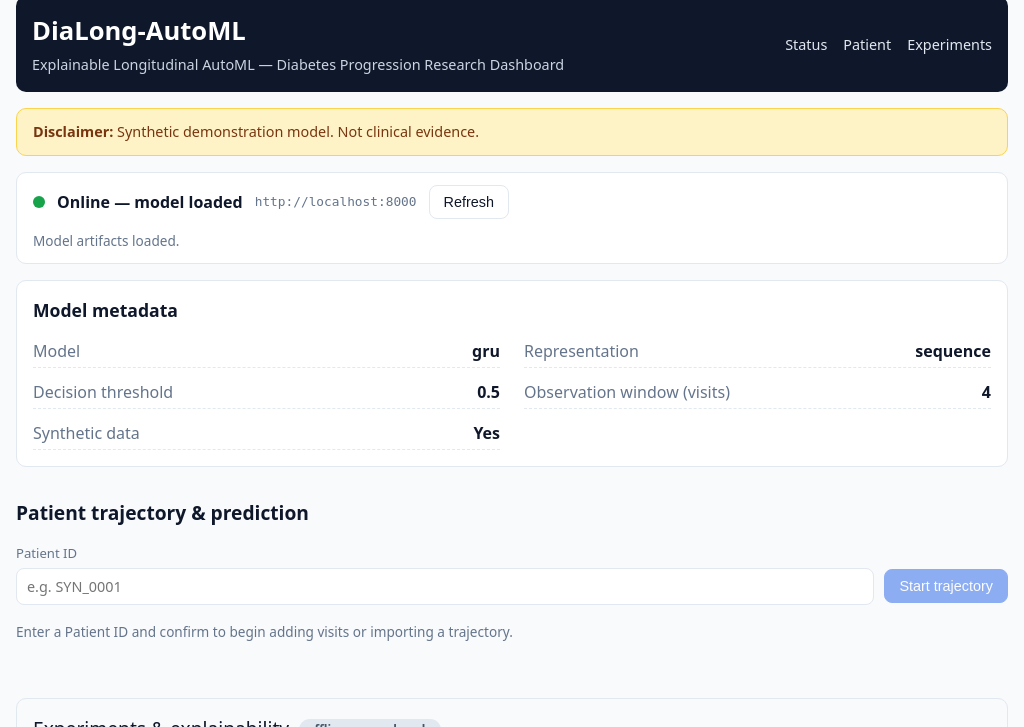
Test: App — visit persistence › saves drafts to the backend and shows them as saved visits
In the field with test id "patient-id-input": (445, 586) [16,568,874,605], type "SYN_0001"
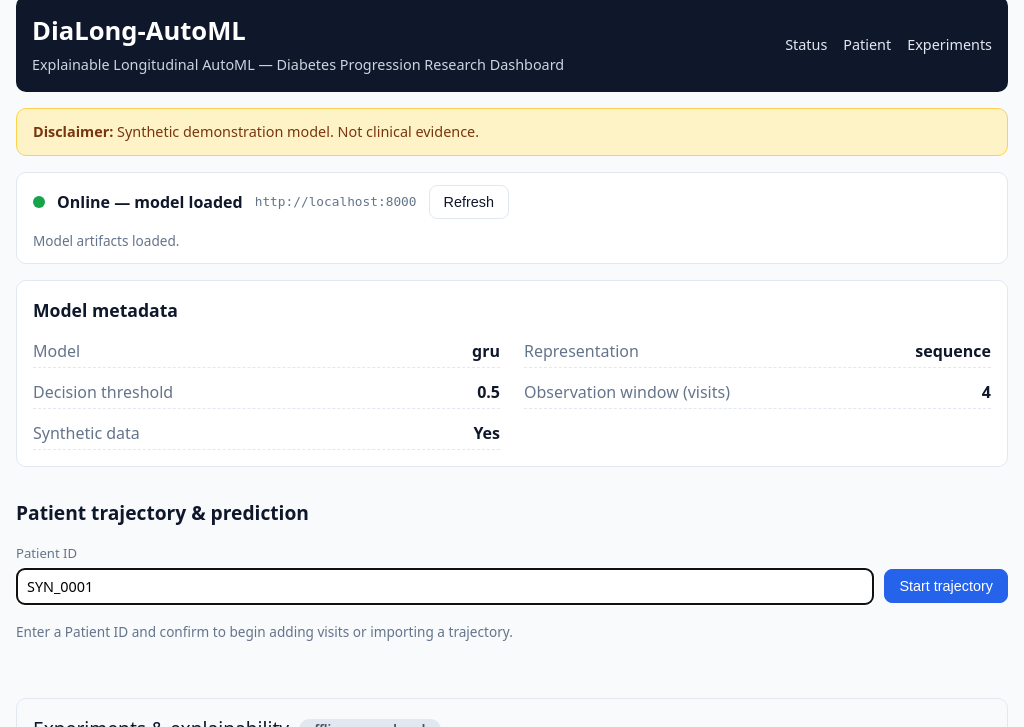
Click the button with test id "patient-id-confirm": click(946, 586) [884,569,1008,603]
(page scrolled)
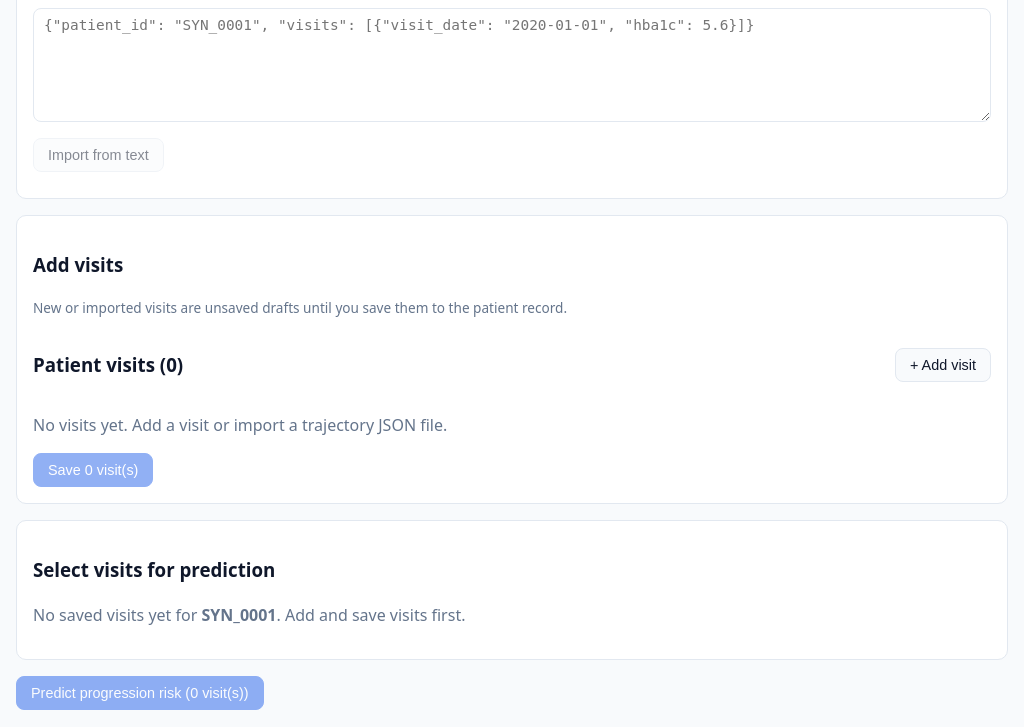
Click the button with test id "add-visit": click(943, 365) [895,348,991,382]
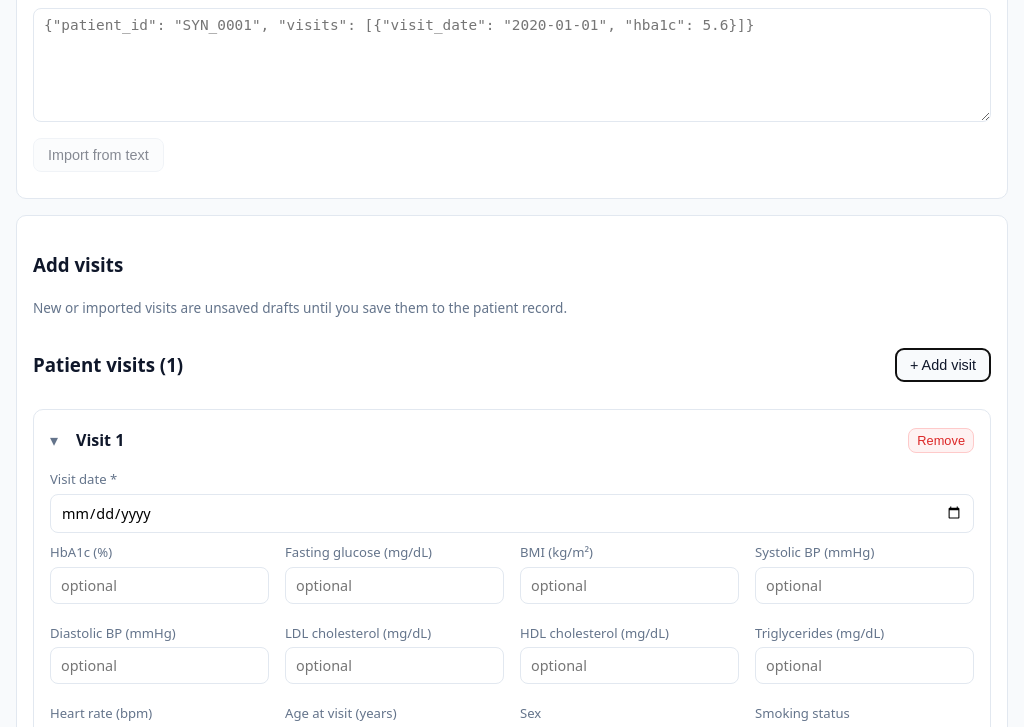
In the date field labelled "Visit date *": (512, 514) [50,494,974,533], type "2020-01-01"
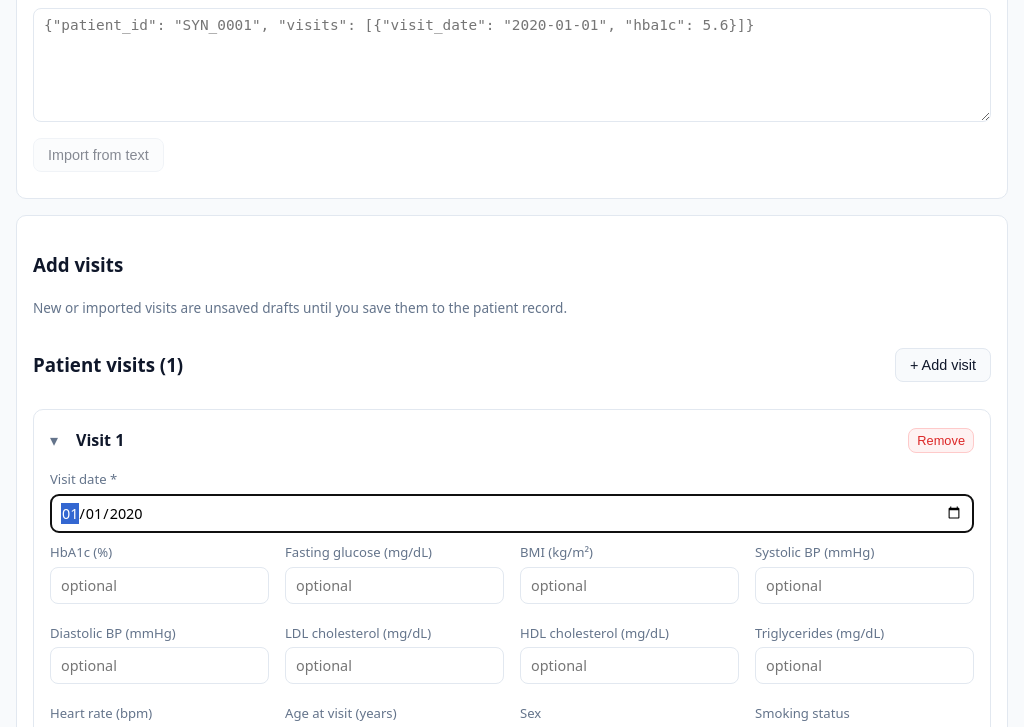
In the number field labelled "HbA1c (%)": (160, 585) [50,567,269,604], type "5.6"
(page scrolled)
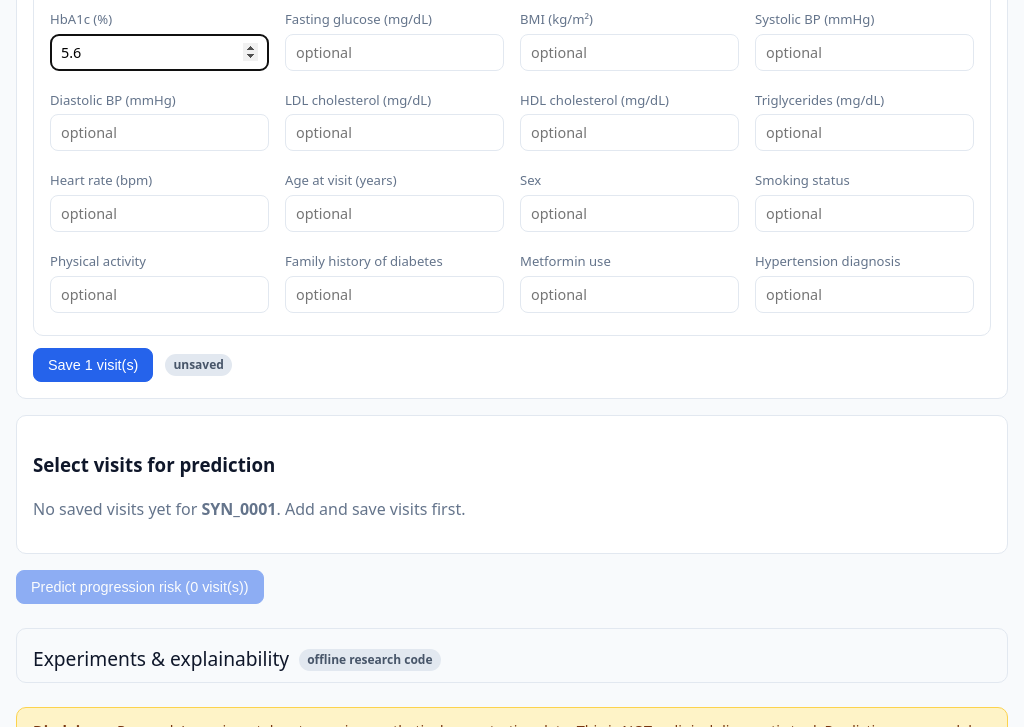
Now the text "unsaved" is shown, box [165,354,232,376]
Click the button with test id "save-visits": click(93, 365) [33,348,153,382]
(page scrolled)
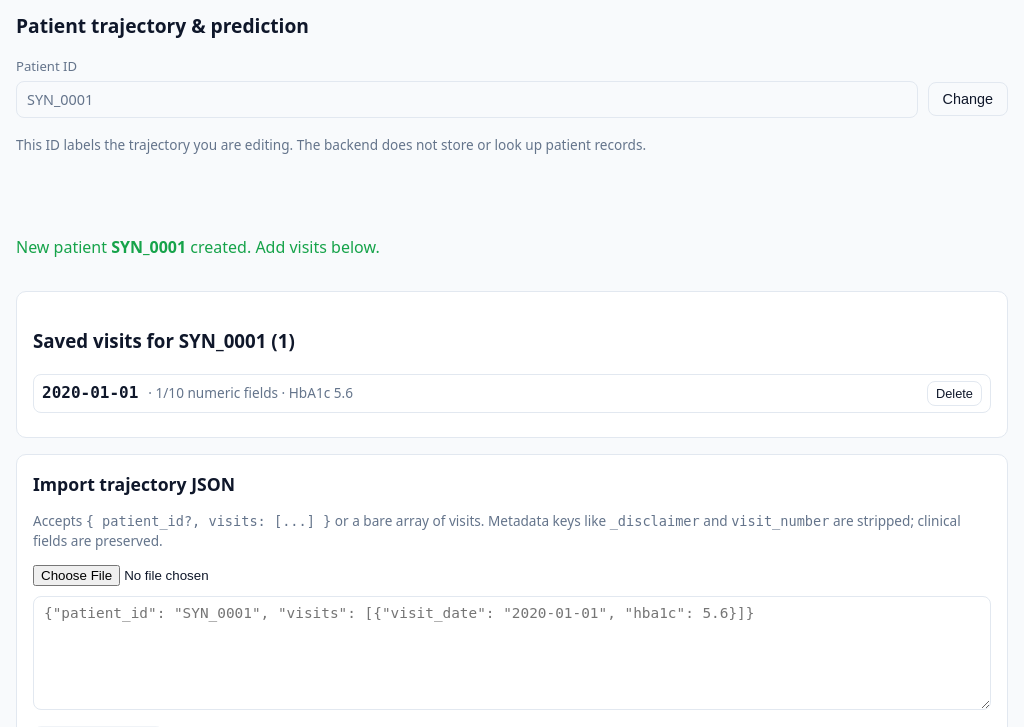
Now the element with test id "saved-visits" shows "2020-01-01", box [42,384,138,402]
Now the text with test id "unsaved-badge" is gone
